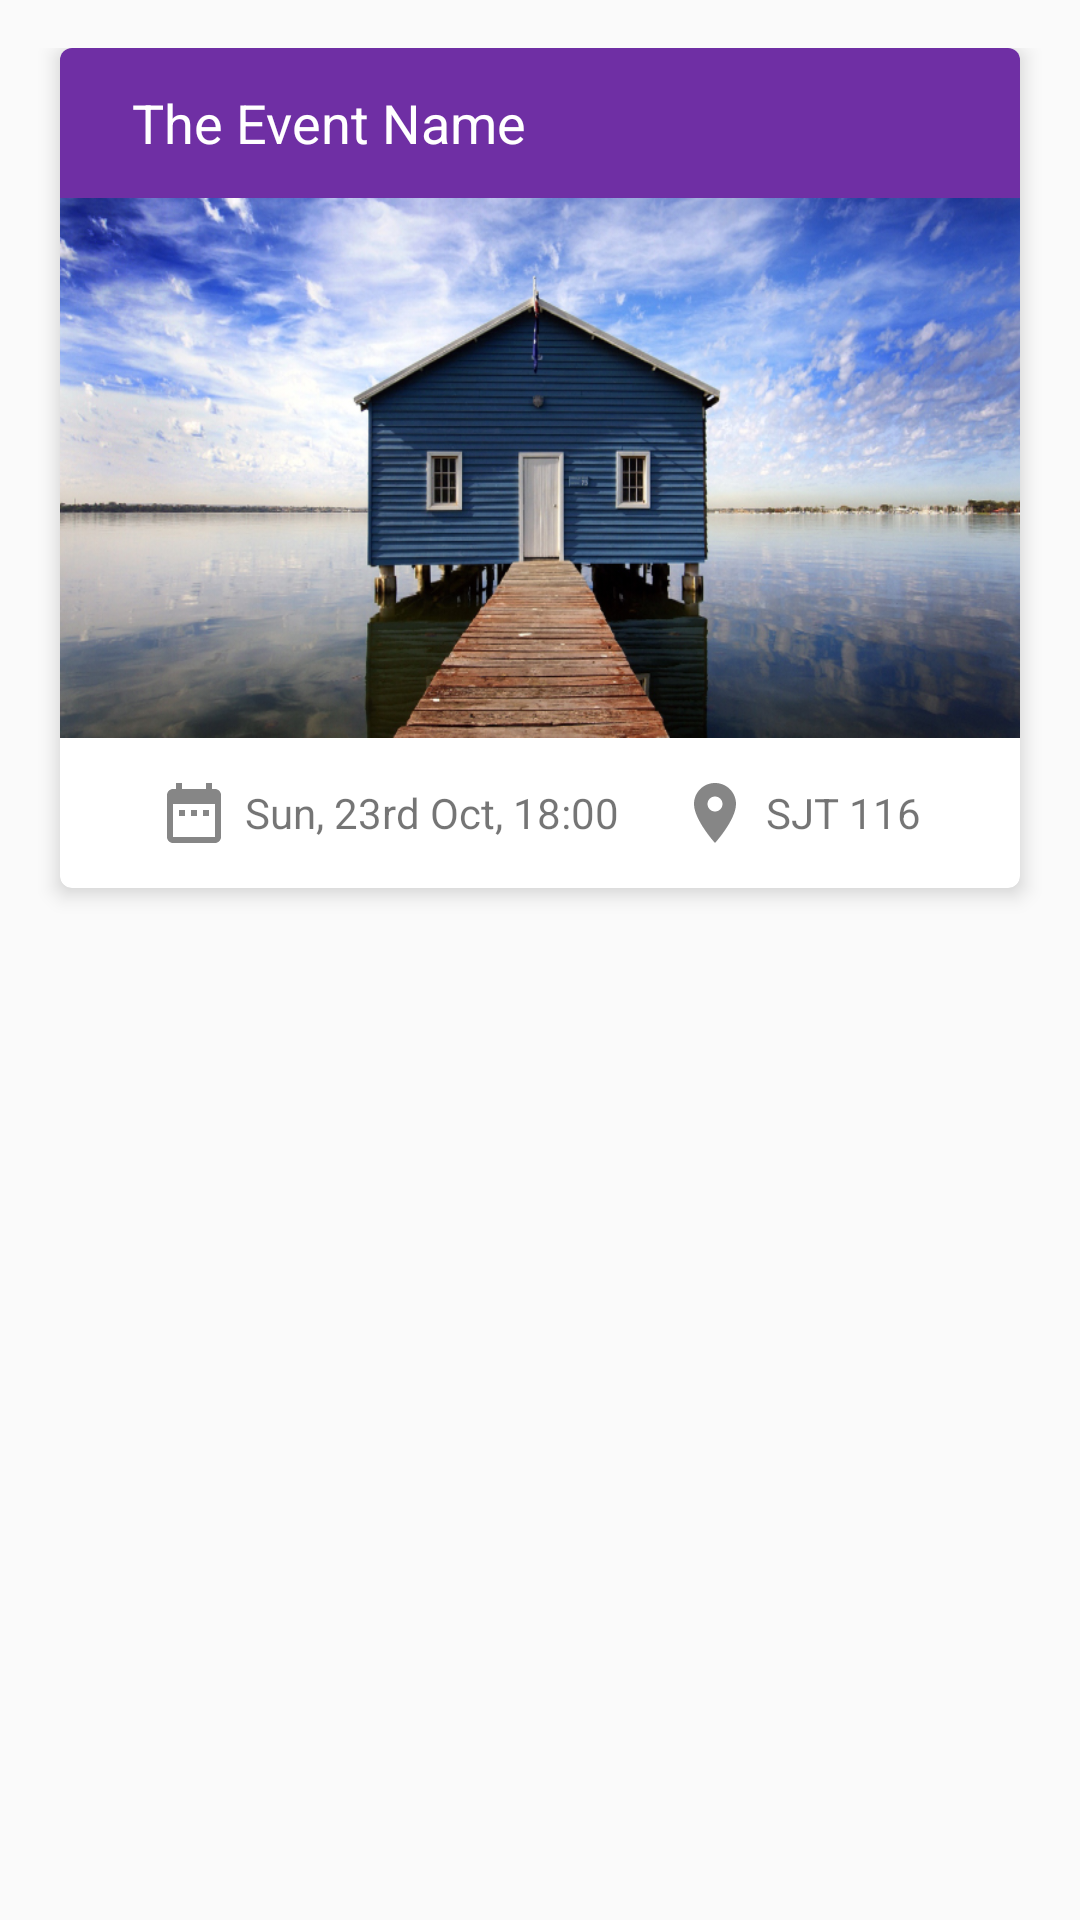

Named icons in this screenshot (1080x1920) and their centers, [x,y]:
date range: [194,813]
place: [715,813]
